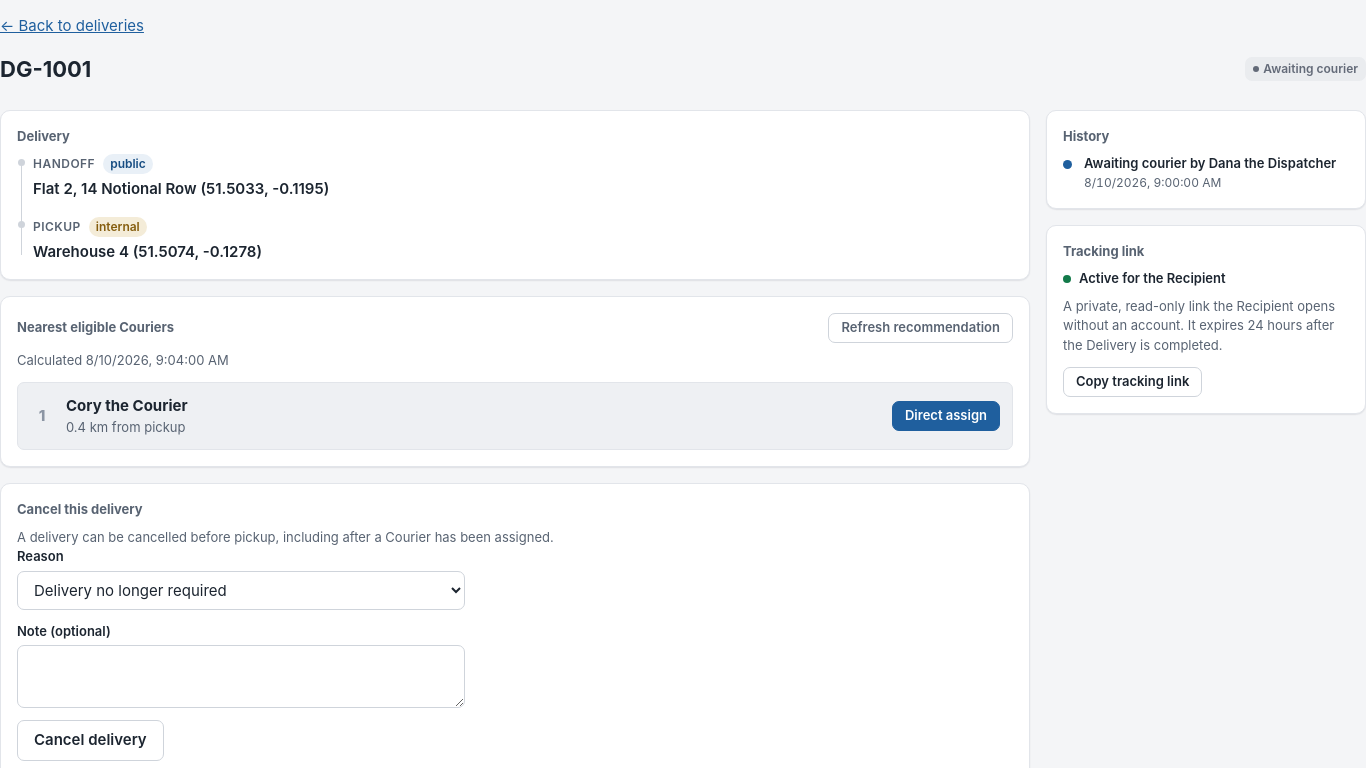
Test: DeliveryDetailPage › shows a fresh nearest recommendation and directly assigns the selected Courier
Expected: the text "Cory the Courier" is shown, [66,395,188,418]
Expected: the text "0.4 km from pickup" is shown, [66,418,188,437]
Click the button with aria-label "Direct assign Cory the Courier" at (946, 416), box [892,401,1000,431]
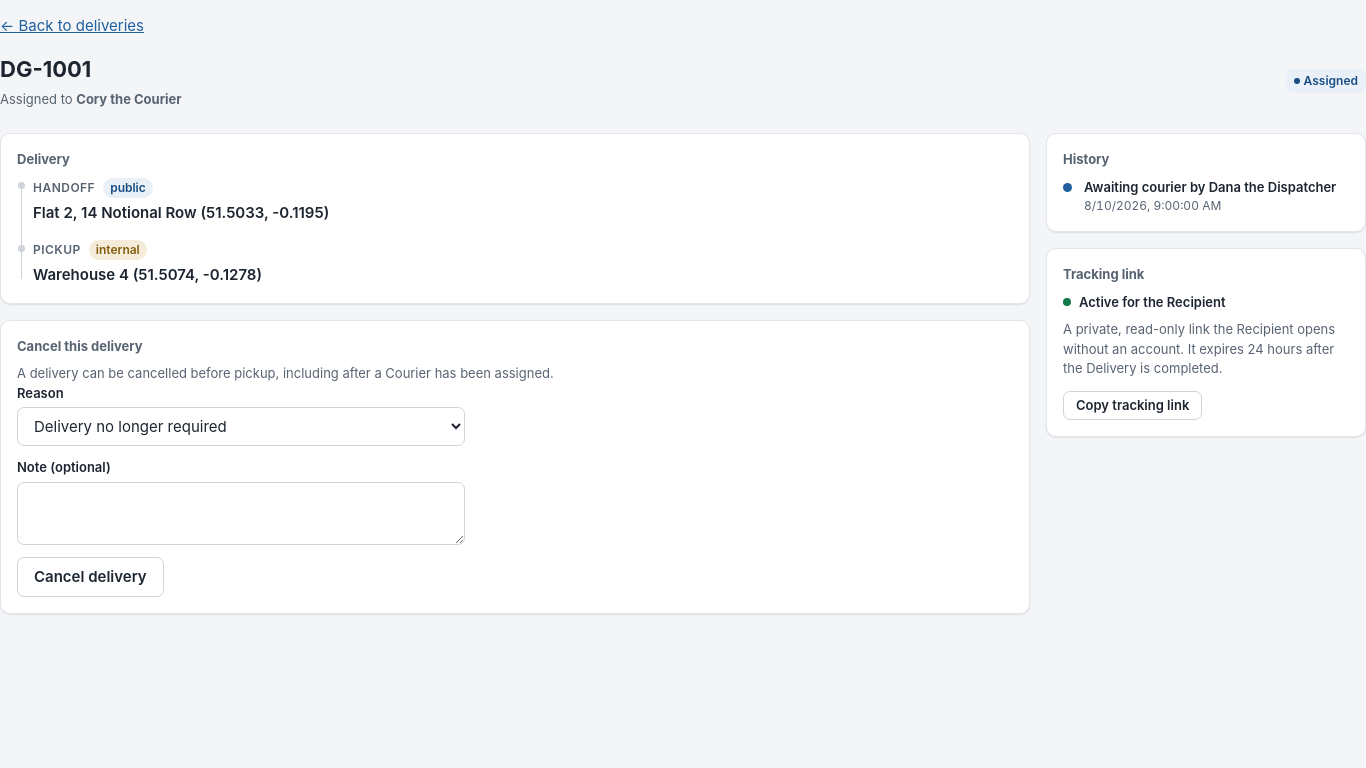
Now the text "Assigned to Cory the Courier" is shown, box [0,90,182,109]
